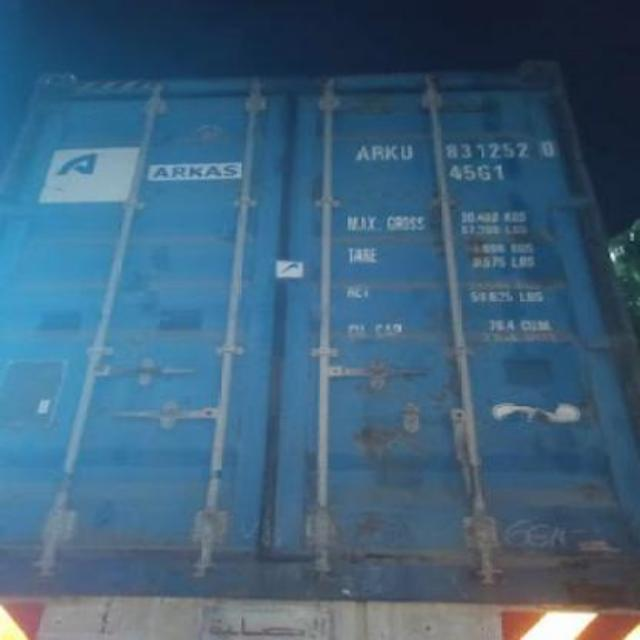0: (540, 136, 558, 158)
1: (472, 136, 488, 162)
2: (514, 132, 532, 160), (488, 132, 502, 162)
3: (458, 140, 472, 162)
5: (500, 135, 516, 161)
8: (442, 140, 458, 160)
A: (352, 142, 372, 164)
K: (382, 138, 398, 168)
R: (371, 142, 384, 164)
U: (398, 138, 418, 166)
